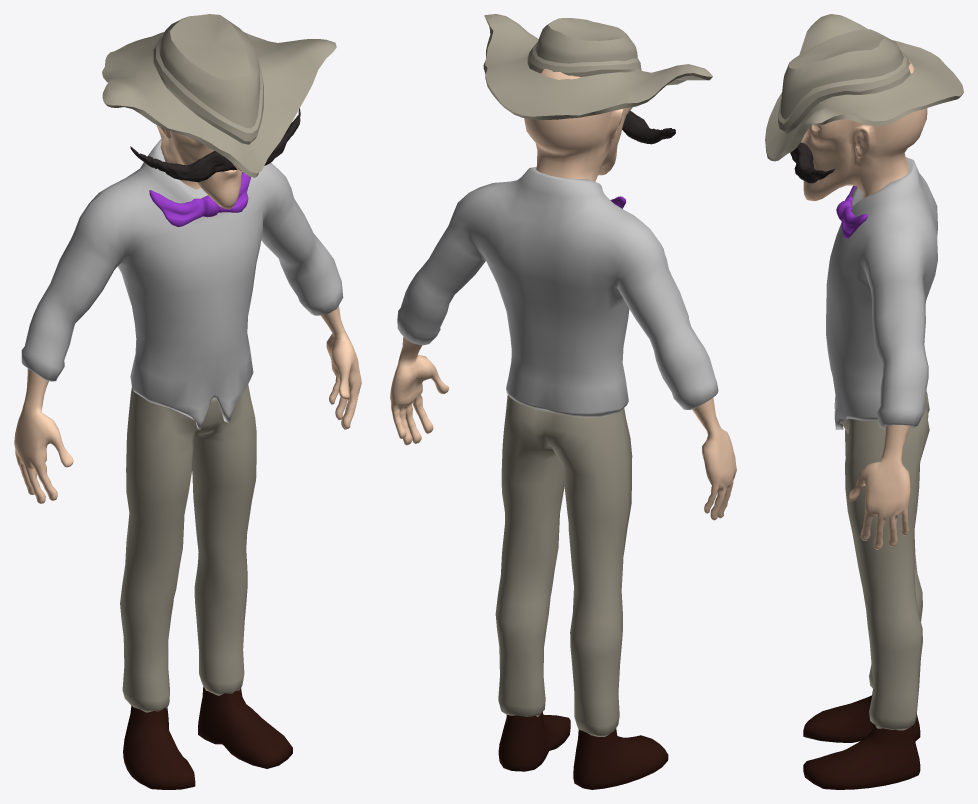
Rendered from Stash.glb.
The picture shows the model from 3 angles, left to right: view 1: azimuth 30°, elevation 25°; view 2: azimuth 150°, elevation 25°; view 3: azimuth 270°, elevation 25°; orthographic projection. The views are drawn at different scales.
Visible parts, largest first — view 1: Plane.008, Plane.010, Plane.003, Plane.012, Plane.011, Plane, Cube.002, Plane.009; view 2: Plane.008, Plane.010, Plane.003, Plane.012, Plane.011, Plane, Cube.002; view 3: Plane.008, Plane.003, Plane.010, Plane.012, Plane, Plane.011, Cube.002, Plane.009.
Part boxes in pixels (bbox=[...]): Plane.008: bbox=[21, 139, 343, 430]; Plane.010: bbox=[120, 384, 256, 712]; Plane.003: bbox=[102, 14, 336, 177]; Plane.012: bbox=[123, 686, 292, 789]; Plane.011: bbox=[14, 305, 361, 503]; Plane: bbox=[156, 125, 241, 209]; Cube.002: bbox=[130, 108, 300, 182]; Plane.009: bbox=[149, 172, 250, 226]; Plane.008: bbox=[397, 167, 718, 416]; Plane.010: bbox=[495, 395, 632, 736]; Plane.003: bbox=[483, 14, 712, 120]; Plane.012: bbox=[498, 712, 668, 789]; Plane.011: bbox=[390, 336, 736, 520]; Plane: bbox=[524, 68, 632, 181]; Cube.002: bbox=[622, 110, 675, 144]; Plane.008: bbox=[826, 157, 937, 429]; Plane.003: bbox=[765, 14, 963, 161]; Plane.010: bbox=[842, 391, 929, 730]; Plane.012: bbox=[803, 689, 920, 789]; Plane: bbox=[800, 60, 927, 201]; Plane.011: bbox=[847, 425, 910, 549]; Cube.002: bbox=[790, 142, 835, 183]; Plane.009: bbox=[836, 185, 867, 238].
Size of the model in its own units: 0.8754 by 1.84 by 0.4616.
